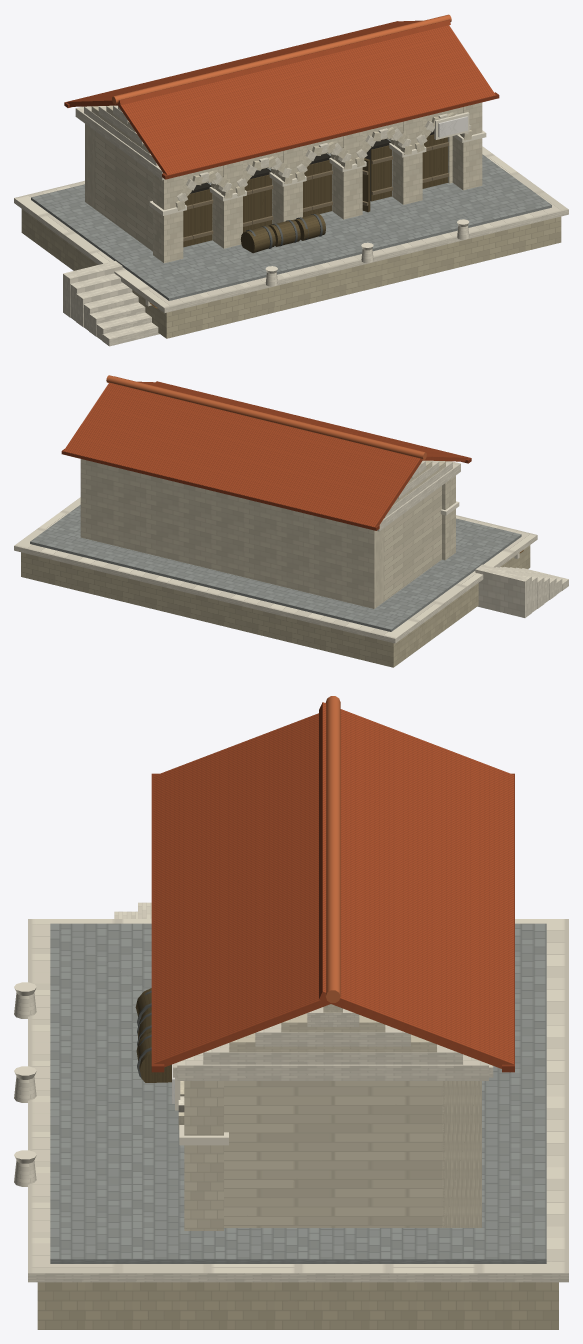
Rendered from pol-4-built.glb.
3 views of the same model, one above another, from view 1: azimuth 30°, elevation 25°; view 2: azimuth 150°, elevation 25°; view 3: azimuth 270°, elevation 25° (orthographic). The views are drawn at different scales.
Bounding box in the file's own units: 37.5 × 14.08 × 22.36.
Materials: 30 (24 with a texture image).
